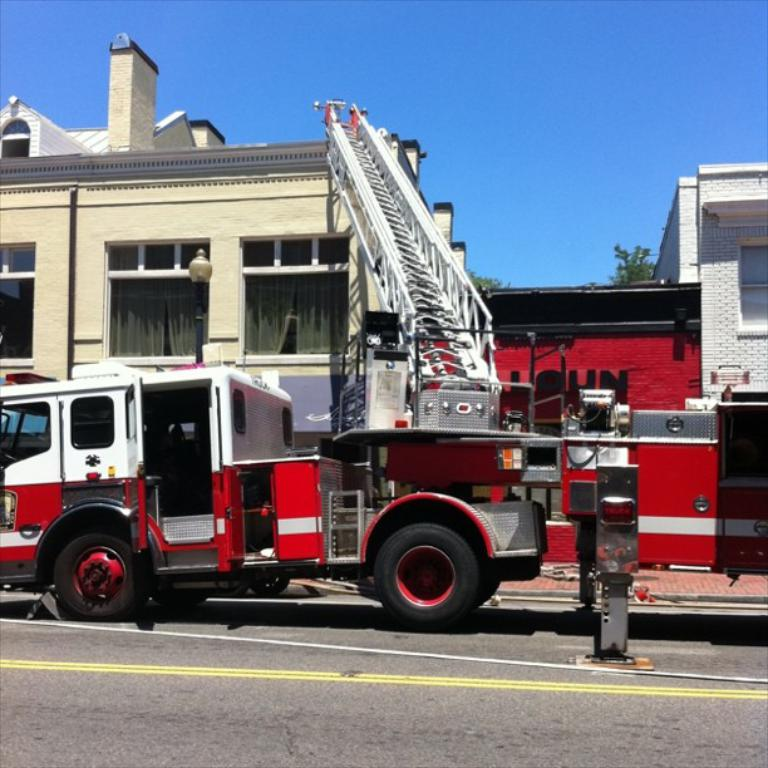truck: (3, 343, 768, 615)
